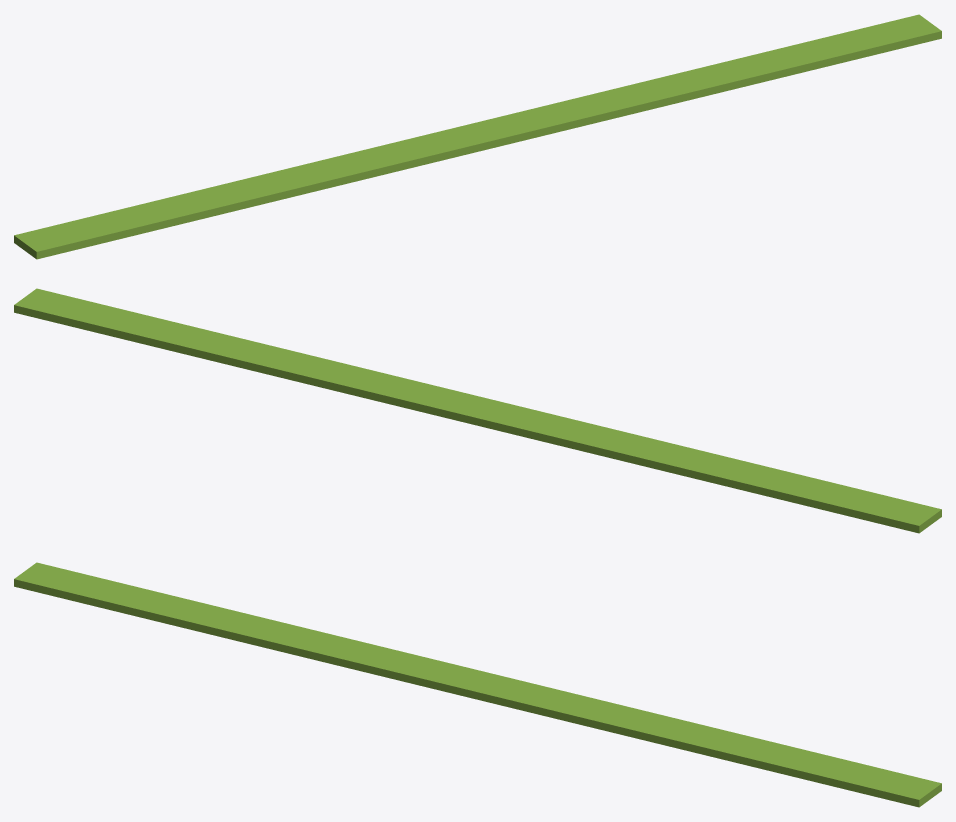
The model's file is kenney-grass-row.obj.
3 renders of one model, top to bottom at view 1: azimuth 30°, elevation 25°; view 2: azimuth 150°, elevation 25°; view 3: azimuth 330°, elevation 25°, orthographic.
Bounding box in the file's own units: 46 × 0.3667 × 2.
1 material, 1 textured.
